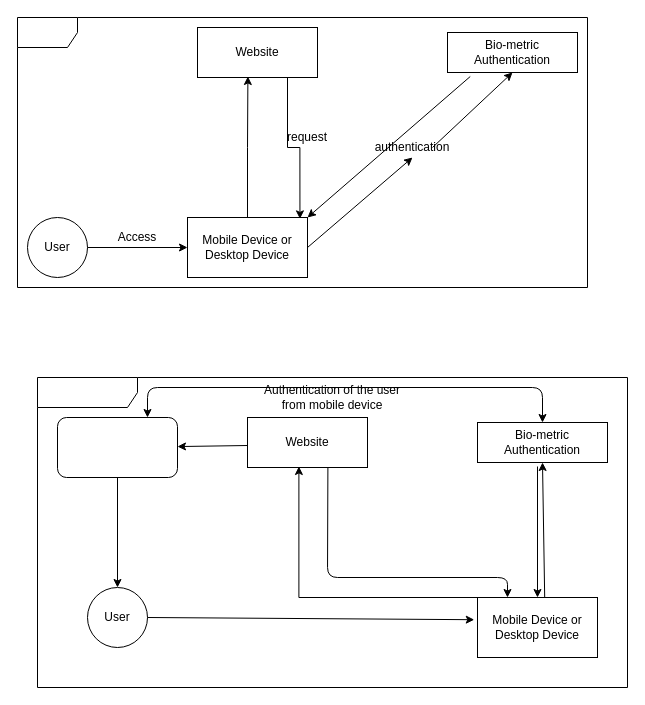
This 645x705 diagram has some shape labels left out. Each missing label, with the box of its shape:
2 Factor Authentication: (36, 376, 628, 688)
Bio-metric Only: (16, 16, 588, 288)
Creating the Onetime password: (56, 416, 178, 478)
